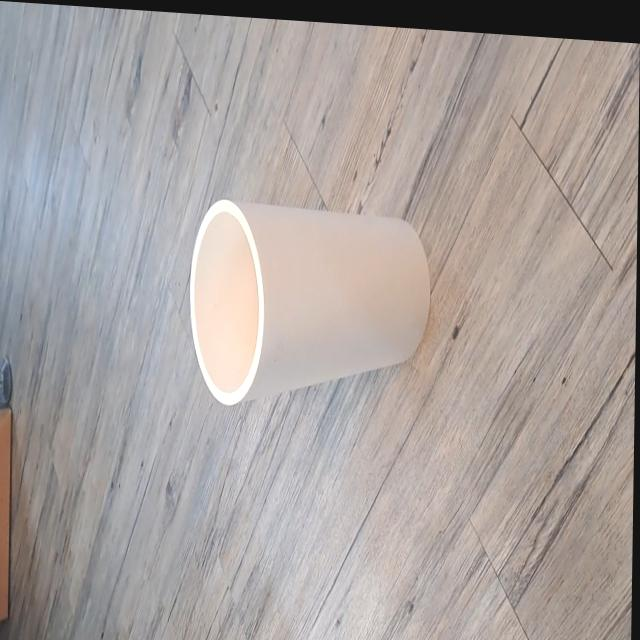CORAL: (170, 110, 445, 462)
